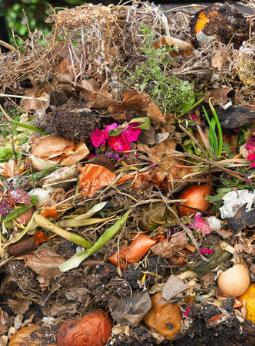organic: (110, 88, 167, 129), (86, 207, 132, 255), (56, 309, 112, 346), (9, 245, 68, 280), (31, 135, 89, 169), (108, 286, 152, 328), (76, 163, 116, 199), (137, 137, 179, 170), (135, 202, 177, 232), (216, 263, 250, 298), (1, 199, 37, 231), (149, 231, 189, 259), (84, 82, 119, 111), (175, 94, 208, 122), (160, 274, 189, 303), (7, 324, 43, 346), (7, 235, 38, 257), (23, 93, 50, 118), (124, 171, 154, 193), (203, 186, 236, 205), (204, 86, 233, 107), (186, 212, 211, 236), (217, 173, 252, 190), (210, 47, 231, 74), (0, 158, 27, 178), (29, 187, 53, 208), (7, 187, 32, 206), (107, 133, 131, 152), (6, 297, 31, 315), (207, 117, 218, 157), (194, 11, 211, 34), (0, 195, 15, 216), (0, 147, 15, 162)
